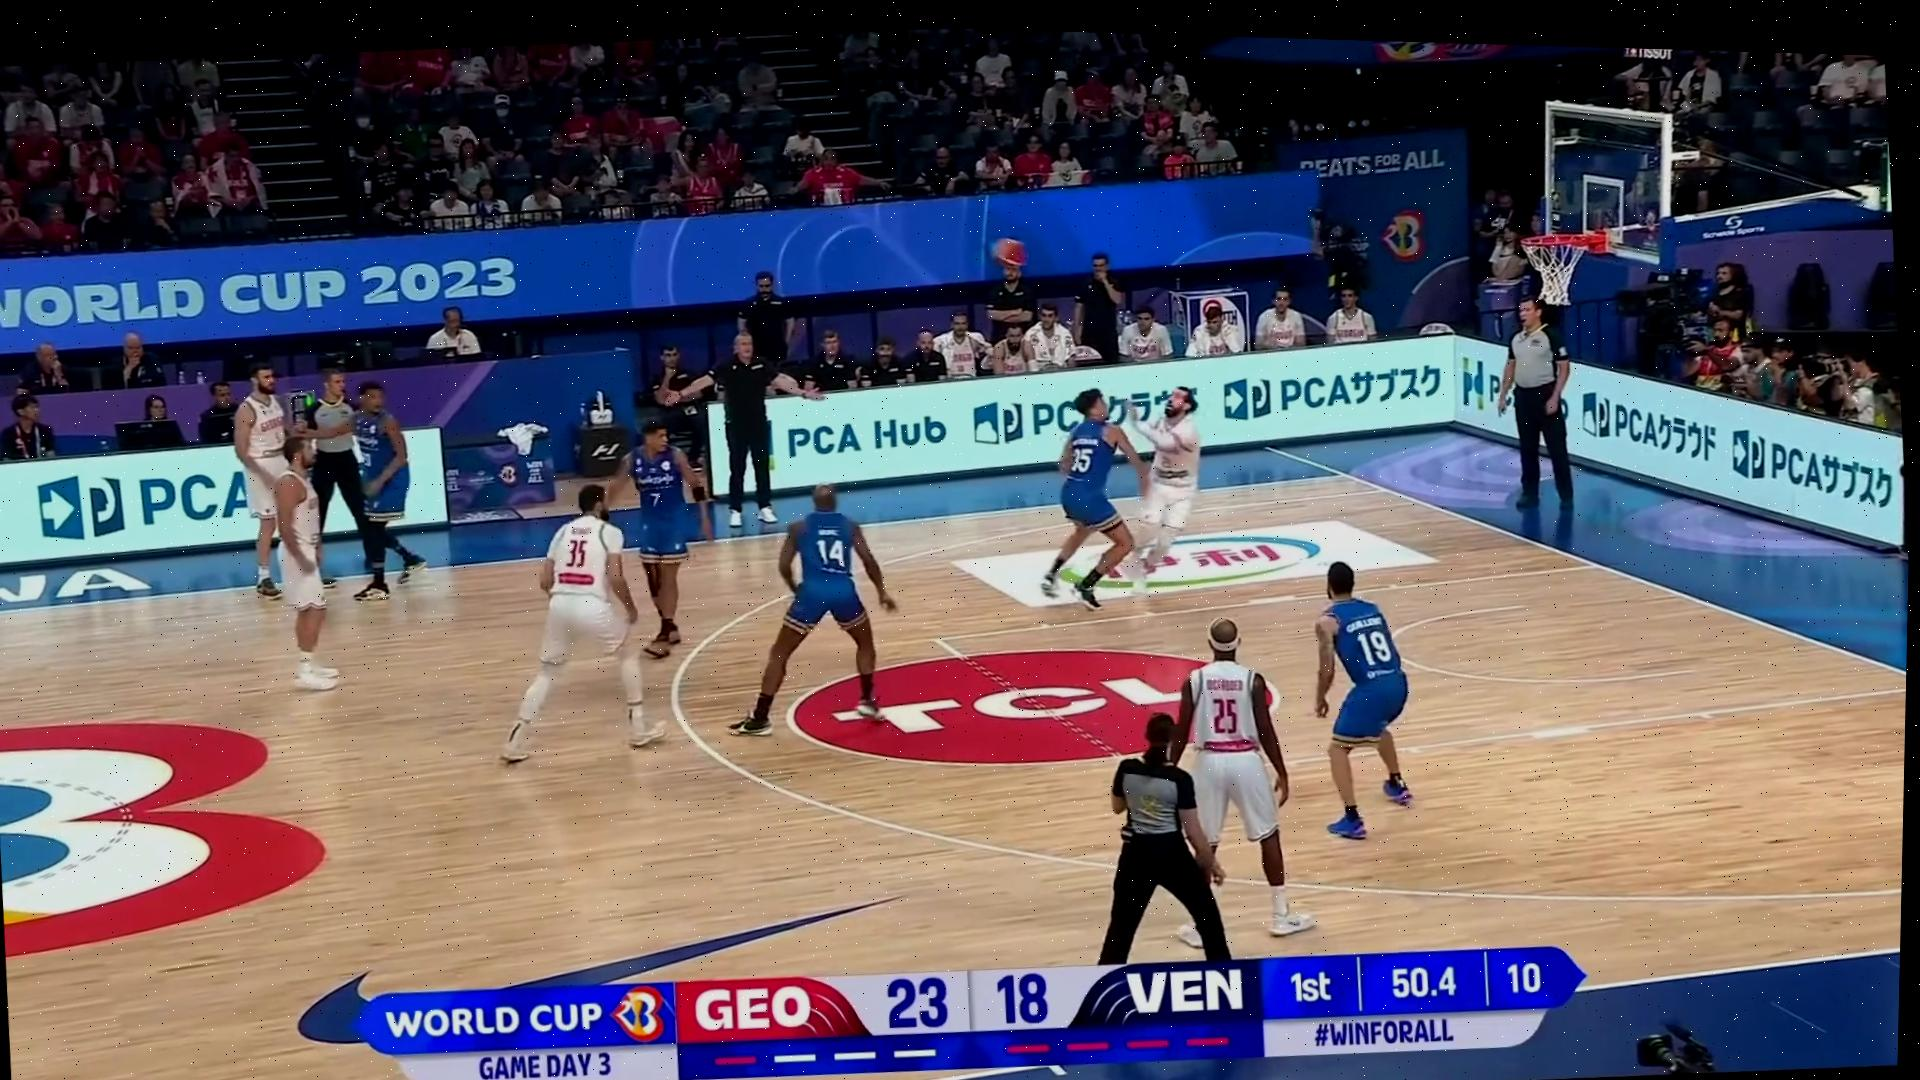no_foul: (1009, 348, 1226, 603)
